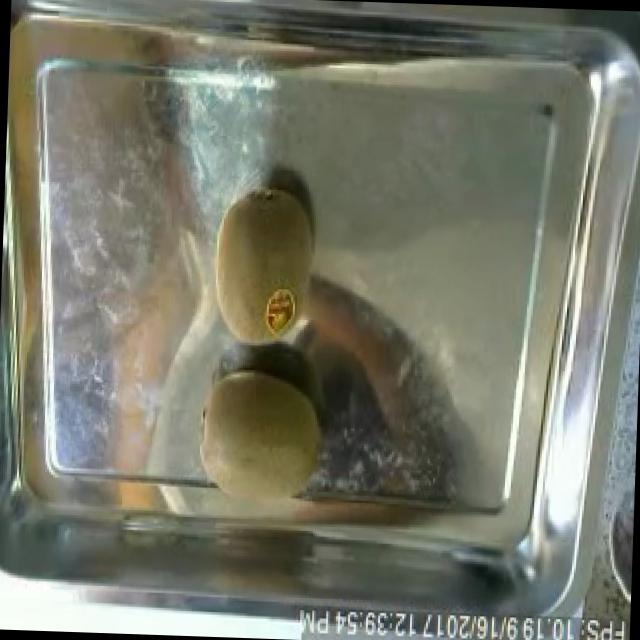Fruit: (199, 175, 327, 362), (184, 355, 336, 512)
